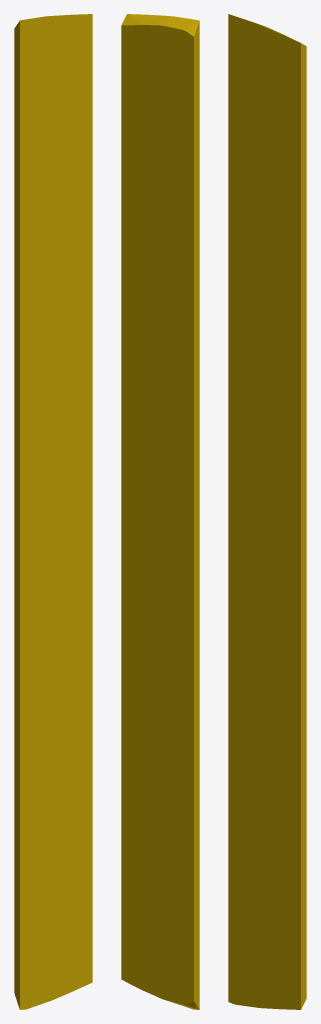
The picture shows the model from 3 angles, left to right: view 1: azimuth 30°, elevation 25°; view 2: azimuth 150°, elevation 25°; view 3: azimuth 330°, elevation 25°; orthographic projection.
Size of the model in its own units: 3.09 by 40.17 by 0.4148.
